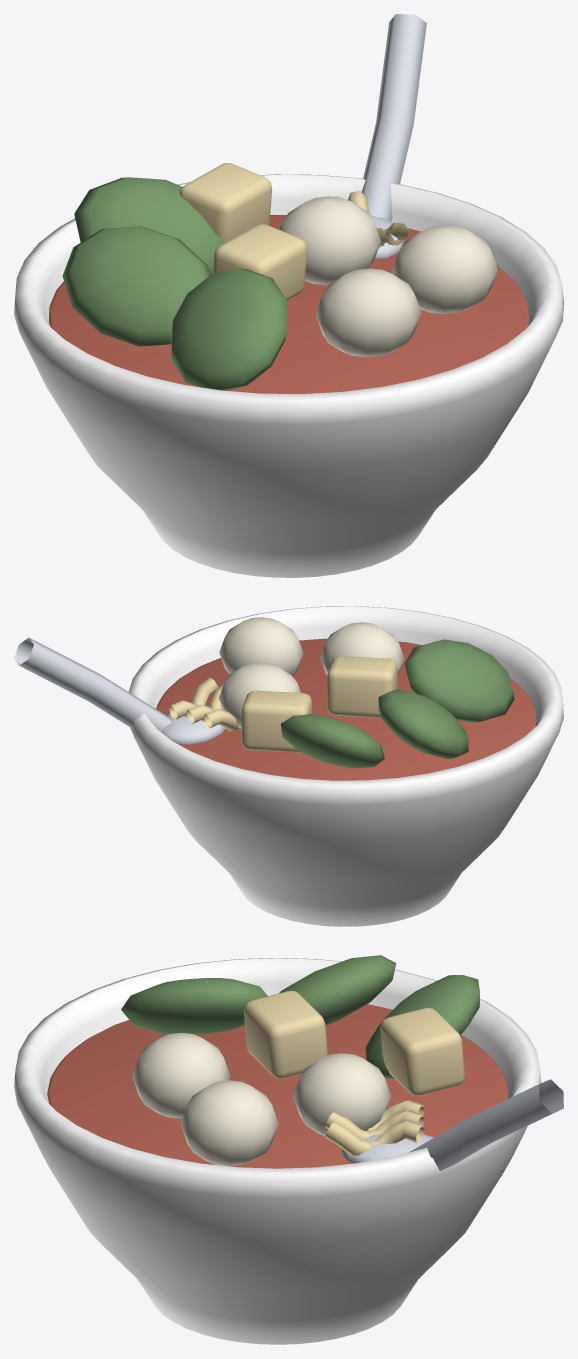
Rendered from option-malatang.glb.
3 views of the same model, one above another, from view 1: azimuth 30°, elevation 25°; view 2: azimuth 150°, elevation 25°; view 3: azimuth 270°, elevation 25° (orthographic). The views are drawn at different scales.
Parts seen in each view (by area): view 1: Model_Malatang_Surface, Model_Malatang_Leaf, Model_Malatang_Tomato, Model_Malatang_Rice, Model_Malatang_Bread, Model_Malatang_Base; view 2: Model_Malatang_Surface, Model_Malatang_Leaf, Model_Malatang_Tomato, Model_Malatang_Bread, Model_Malatang_Rice, Model_Malatang_Base; view 3: Model_Malatang_Surface, Model_Malatang_Tomato, Model_Malatang_Rice, Model_Malatang_Bread, Model_Malatang_Leaf, Model_Malatang_Base.
Boxes of the visible parts, <box> form: Model_Malatang_Surface: <box>14,174,563,577</box>; Model_Malatang_Leaf: <box>62,177,287,390</box>; Model_Malatang_Tomato: <box>49,215,528,393</box>; Model_Malatang_Rice: <box>279,196,497,357</box>; Model_Malatang_Bread: <box>179,163,409,300</box>; Model_Malatang_Base: <box>361,14,426,259</box>; Model_Malatang_Surface: <box>128,606,563,926</box>; Model_Malatang_Leaf: <box>280,639,514,768</box>; Model_Malatang_Tomato: <box>156,638,536,780</box>; Model_Malatang_Bread: <box>169,656,397,752</box>; Model_Malatang_Rice: <box>219,617,404,728</box>; Model_Malatang_Base: <box>14,637,225,744</box>; Model_Malatang_Surface: <box>14,958,541,1344</box>; Model_Malatang_Tomato: <box>47,1004,508,1168</box>; Model_Malatang_Rice: <box>132,1032,391,1166</box>; Model_Malatang_Bread: <box>243,990,464,1155</box>; Model_Malatang_Leaf: <box>121,955,479,1078</box>; Model_Malatang_Base: <box>340,1079,563,1170</box>.
Bounding box in the file's own units: 0.7055 × 0.467 × 0.6835.
